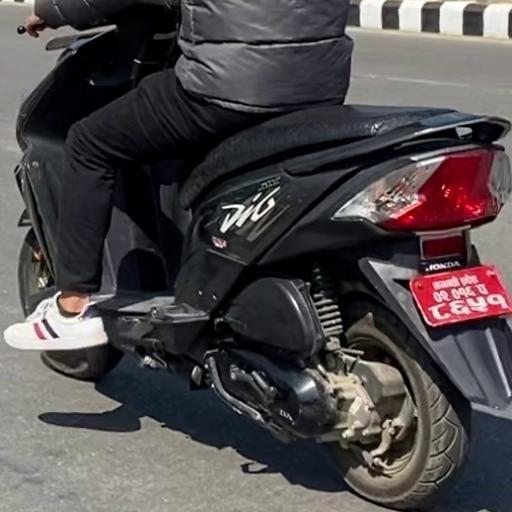license_plate: (406, 258, 511, 333)
